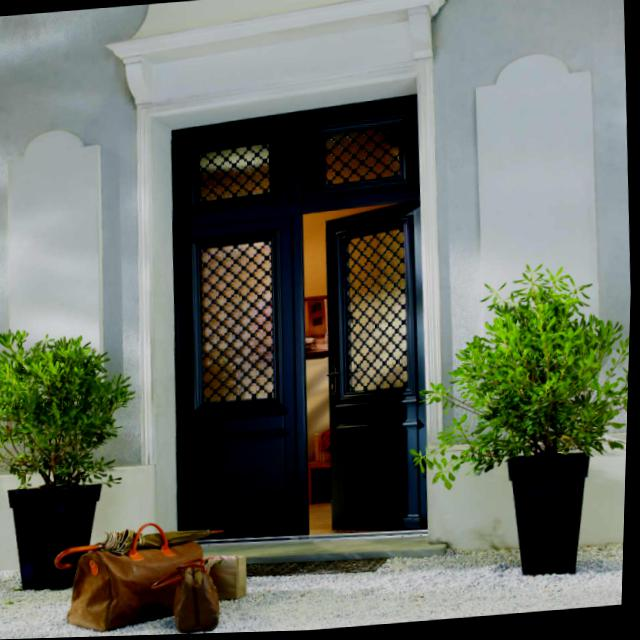close: (158, 211, 319, 559)
semi-open: (294, 201, 444, 550)
